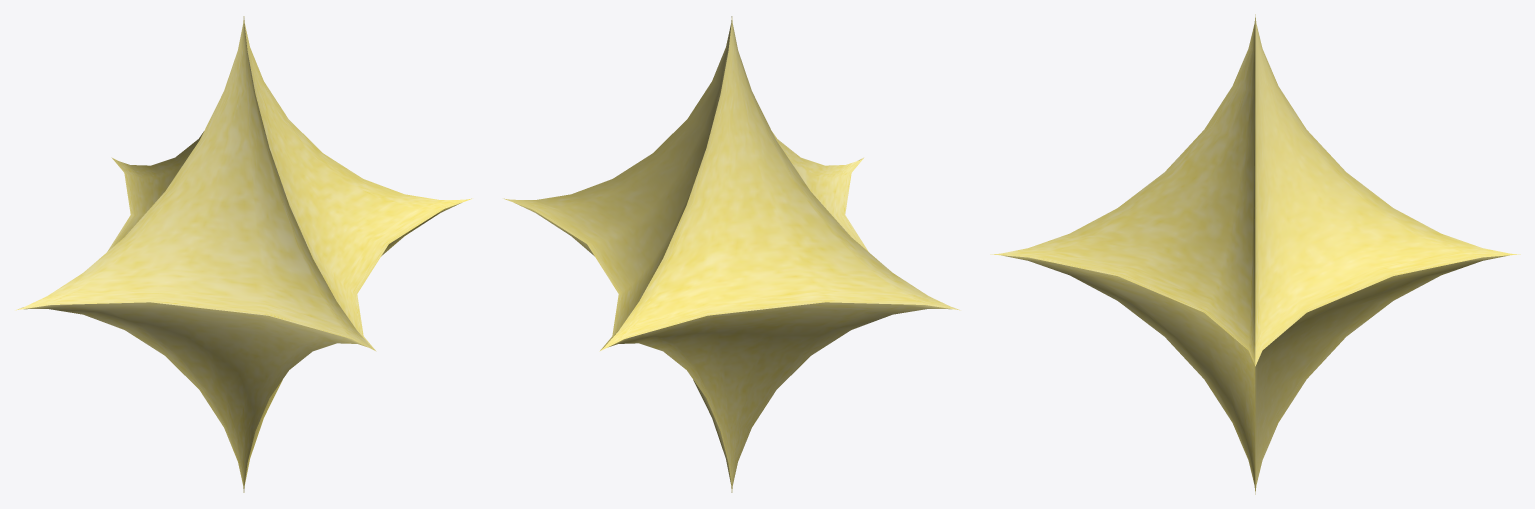
File: friend_ver2.fbx
3 renders of one model, left to right at view 1: azimuth 30°, elevation 25°; view 2: azimuth 150°, elevation 25°; view 3: azimuth 270°, elevation 25°, orthographic.
Visible parts, largest first — view 1: pSuperShape1; view 2: pSuperShape1; view 3: pSuperShape1.
Boxes of the visible parts, x1,y1,x2,y2 form: pSuperShape1: (15,16,472,492); pSuperShape1: (503,16,960,492); pSuperShape1: (990,14,1520,494).
Bounding box in the file's own units: 20 × 20 × 20.
